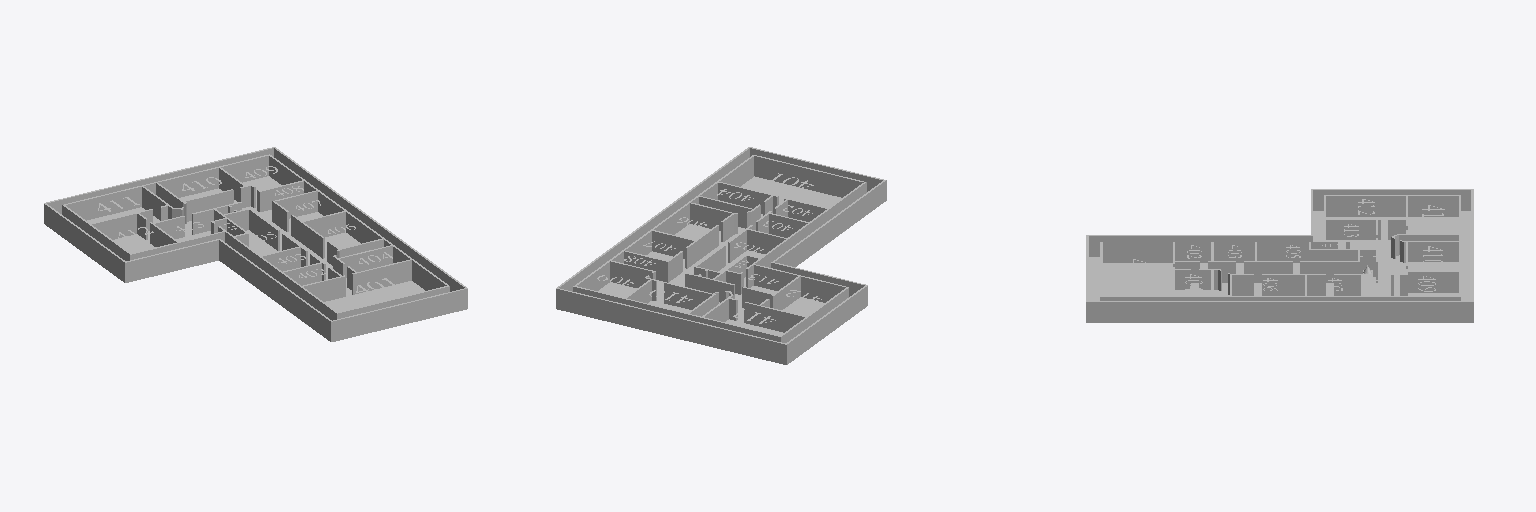
File: bing4.obj
The picture shows the model from 3 angles: view 1: azimuth 30°, elevation 25°; view 2: azimuth 150°, elevation 25°; view 3: azimuth 270°, elevation 25°; orthographic projection.
Parts seen in each view (by area): view 1: polySurface19, pCube179, pCube62, pCube85, pCube178, pCube57, pCube61, pCube60, pCube59, pCube182, pCube201, pCube93 (+13 smaller); view 2: pCube59, polySurface19, pCube178, pCube85, pCube57, pCube177, pCube60, pCube182, pCube181, pCube179, pCube93, pCube62 (+15 smaller); view 3: pCube57, polySurface19, pCube182, pCube180, pCube178, pCube85, pCube166, pCube60, pCube188, pCube198, pCube118, pCube113 (+3 smaller).
Part boxes in pixels (x1,y1,x2,y2): polySurface19: (87, 176, 424, 324); pCube179: (62, 155, 268, 220); pCube62: (330, 288, 465, 341); pCube85: (219, 240, 331, 340); pCube178: (269, 154, 448, 290); pCube57: (273, 147, 467, 309); pCube61: (124, 239, 220, 282); pCube60: (45, 203, 126, 282); pCube59: (44, 147, 273, 223); pCube182: (218, 226, 338, 320); pCube201: (352, 259, 413, 294); pCube93: (89, 209, 152, 239); pCube59: (558, 288, 787, 364); polySurface19: (598, 176, 870, 335); pCube178: (573, 155, 753, 291); pCube85: (773, 181, 884, 266); pCube57: (556, 147, 750, 309); pCube177: (753, 155, 863, 197); pCube60: (785, 286, 867, 364); pCube182: (746, 182, 866, 287); pCube181: (754, 264, 848, 302); pCube179: (573, 286, 781, 341); pCube93: (744, 302, 808, 332); pCube62: (750, 147, 886, 201); pCube57: (1086, 301, 1473, 322); polySurface19: (1089, 211, 1470, 300); pCube182: (1103, 242, 1337, 262); pCube180: (1326, 195, 1458, 216); pCube178: (1100, 296, 1460, 300); pCube85: (1089, 235, 1310, 256); pCube166: (1262, 274, 1325, 295); pCube60: (1311, 189, 1473, 210); pCube188: (1326, 219, 1380, 239); pCube198: (1408, 271, 1460, 292); pCube118: (1407, 241, 1459, 261); pCube113: (1300, 261, 1359, 282).
Size of the model in its own units: 2351 by 202 by 3412.